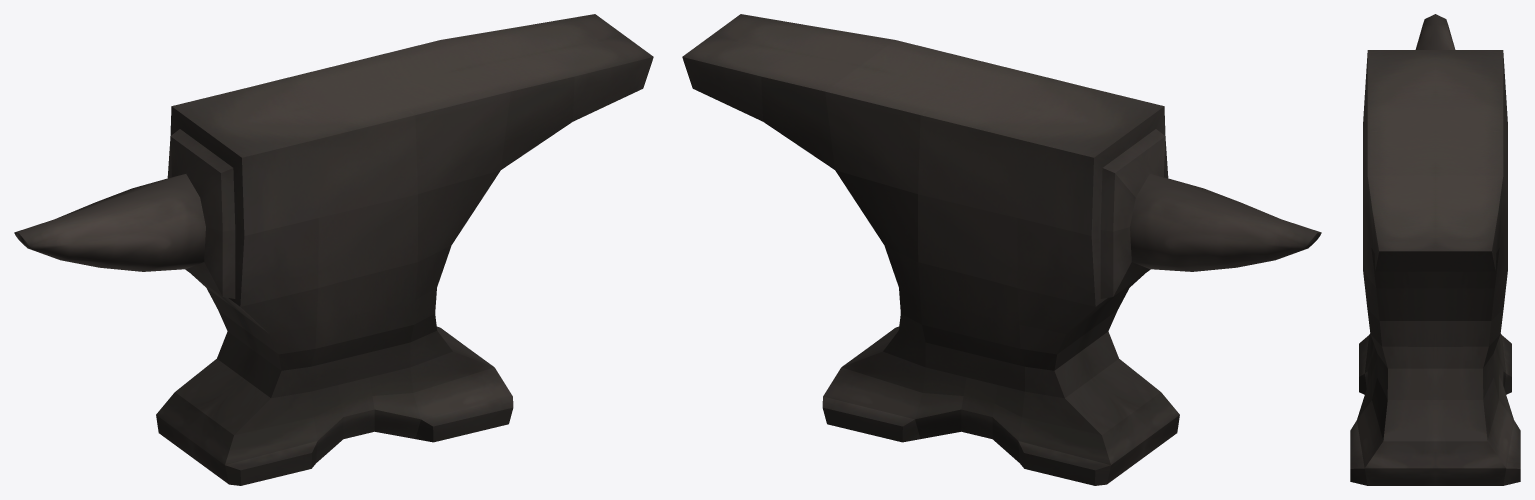
File: Anvil.fbx
The picture shows the model from 3 angles, left to right: view 1: azimuth 30°, elevation 25°; view 2: azimuth 150°, elevation 25°; view 3: azimuth 270°, elevation 25°; orthographic projection. The views are drawn at different scales.
Parts seen in each view (by area): view 1: Anvil; view 2: Anvil; view 3: Anvil.
Part boxes in pixels (x1=…): Anvil: x1=14, y1=14, x2=653, y2=485; Anvil: x1=682, y1=14, x2=1321, y2=485; Anvil: x1=1350, y1=14, x2=1520, y2=485.
Bounding box in the file's own units: 7.76 × 3.97 × 1.96.
